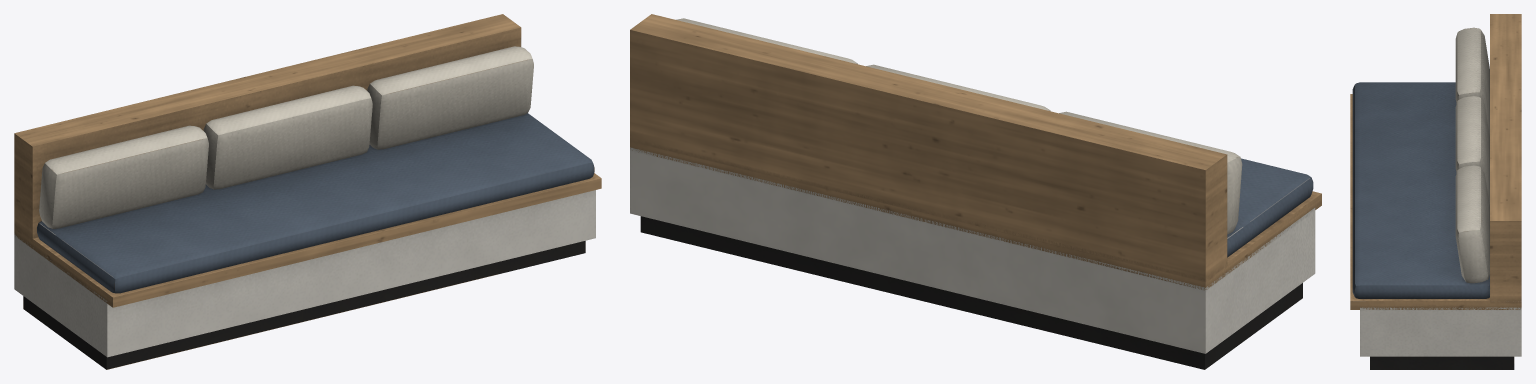
The model's file is H_KitchenBench.fbx.
3 views of the same model, side by side, from view 1: azimuth 30°, elevation 25°; view 2: azimuth 150°, elevation 25°; view 3: azimuth 270°, elevation 25° (orthographic). The views are drawn at different scales.
Parts seen in each view (by area): view 1: H_KitchenBench; view 2: H_KitchenBench; view 3: H_KitchenBench.
Part boxes in pixels (x1=…): H_KitchenBench: x1=14, y1=14, x2=601, y2=369; H_KitchenBench: x1=630, y1=14, x2=1321, y2=369; H_KitchenBench: x1=1350, y1=14, x2=1521, y2=369.
Size of the model in its own units: 1000 by 340 by 350.
Materials: 1 (1 with a texture image).
